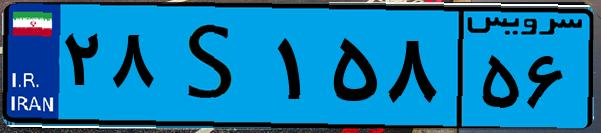1: (270, 28, 330, 110)
2: (57, 26, 110, 100)
5: (330, 28, 385, 110), (475, 38, 525, 113)
6: (525, 38, 570, 115)
8: (385, 28, 445, 110), (110, 28, 158, 98)
S: (158, 12, 270, 120)
